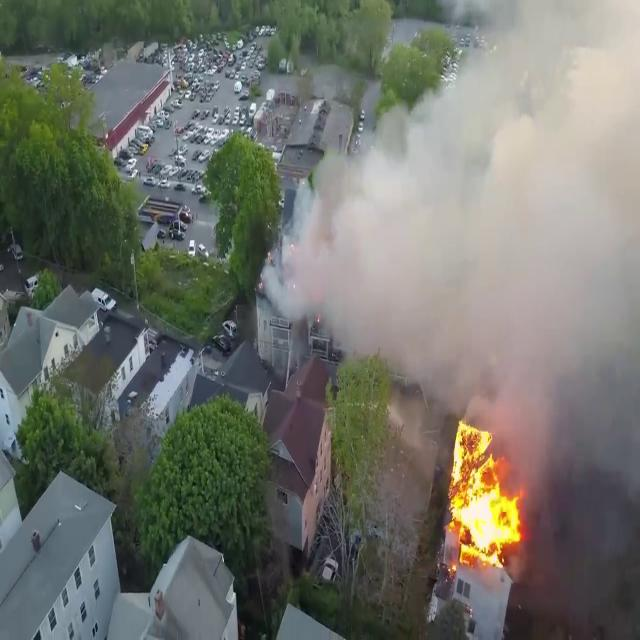Fire: (442, 416, 528, 568)
Smoke: (271, 1, 640, 444)
